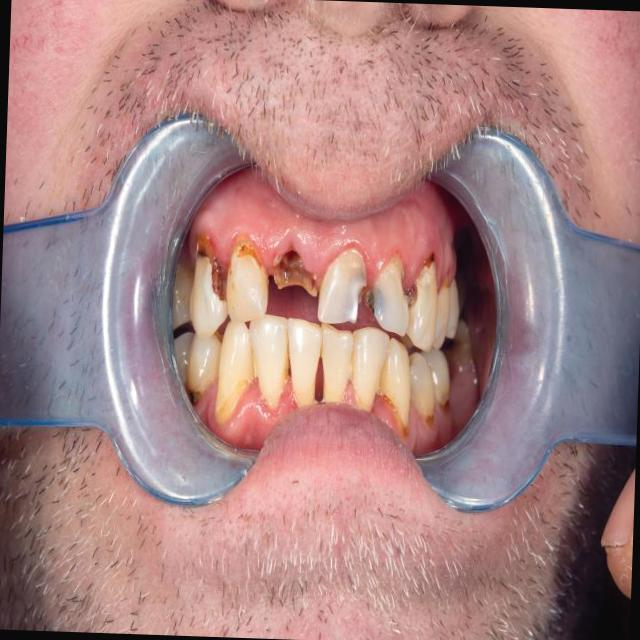caries: (362, 251, 413, 337), (222, 236, 271, 323), (315, 246, 368, 324), (187, 235, 227, 337), (271, 241, 318, 296)
